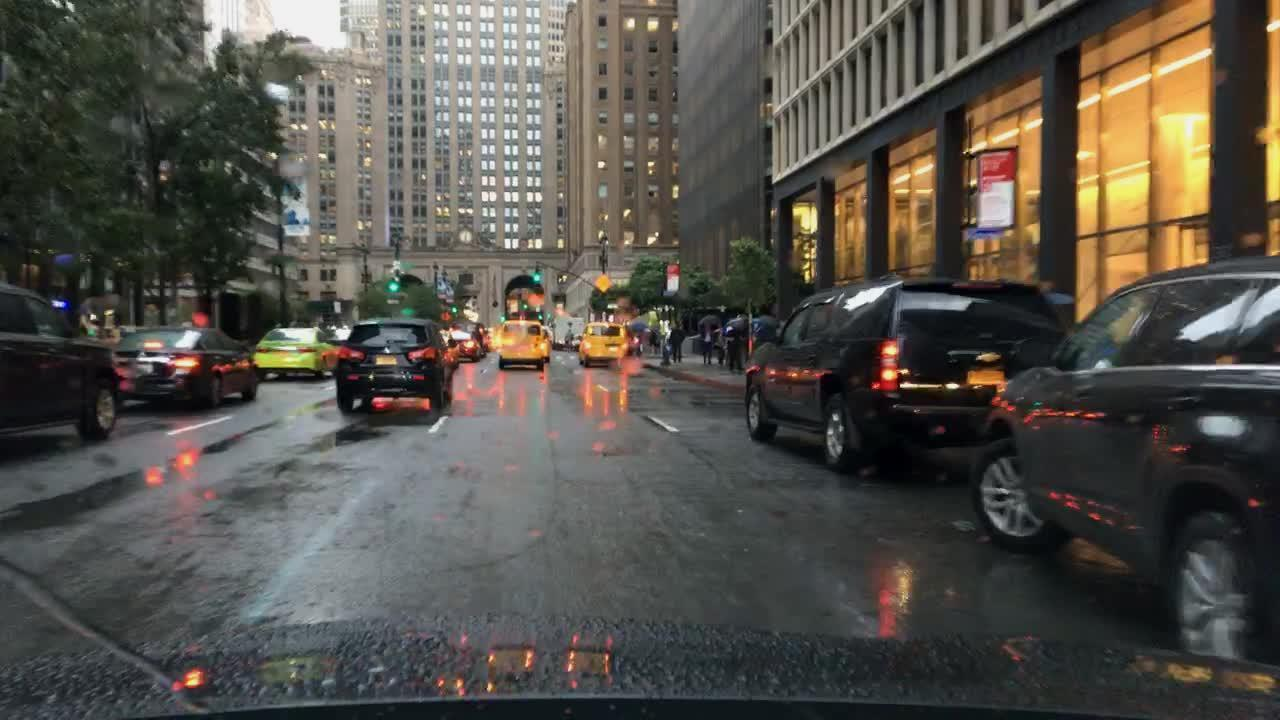chevrolet: (978, 345, 1006, 366)
